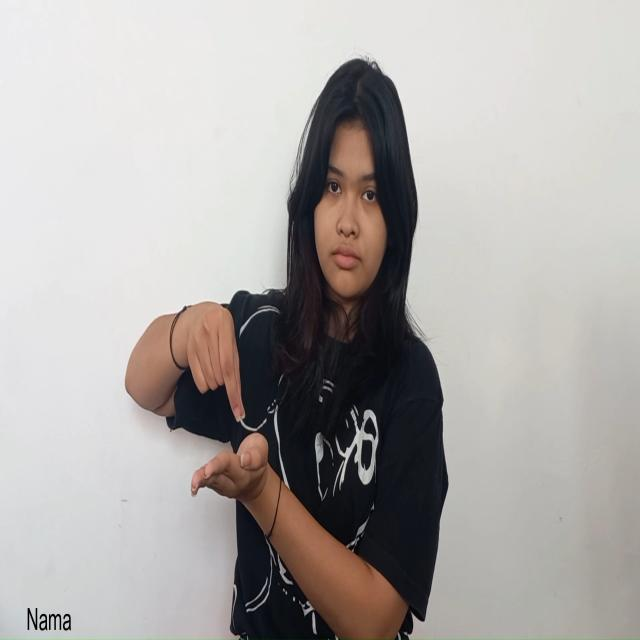Nama -BISINDO-: (184, 301, 269, 504)
